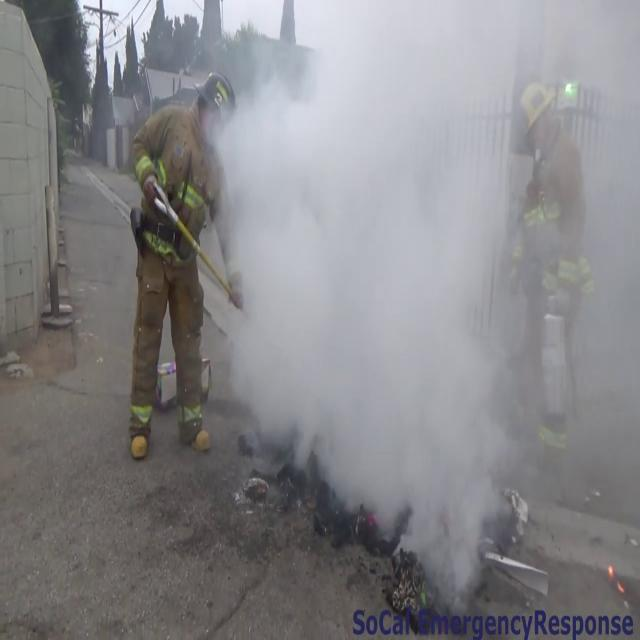Smoke: (201, 0, 640, 578)
